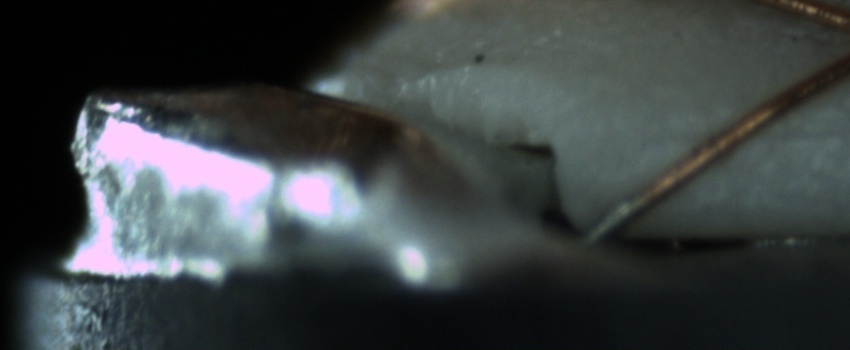DL: (676, 98, 850, 163)
TS: (573, 193, 643, 250)
